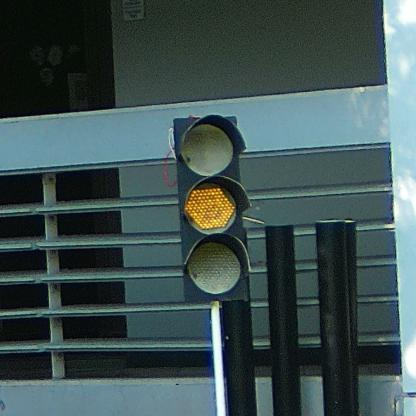yellow: (174, 116, 252, 302)
